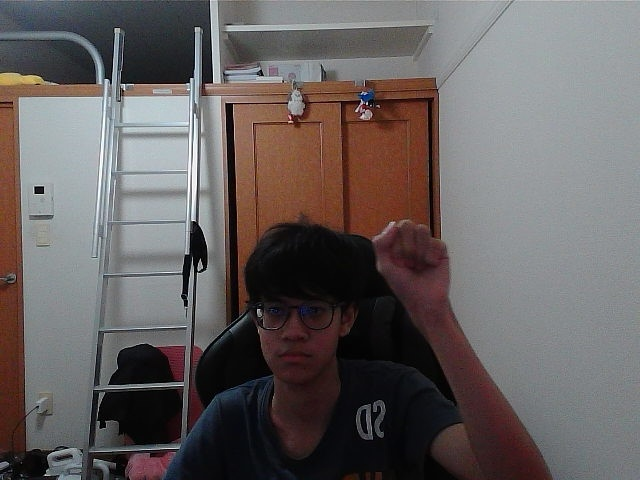closed_palm: (380, 225, 441, 302)
